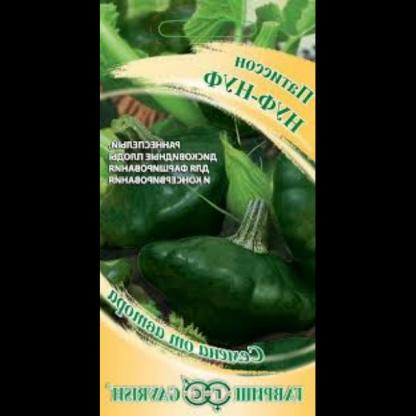squash-patisson: (132, 200, 315, 331), (101, 117, 240, 244)
